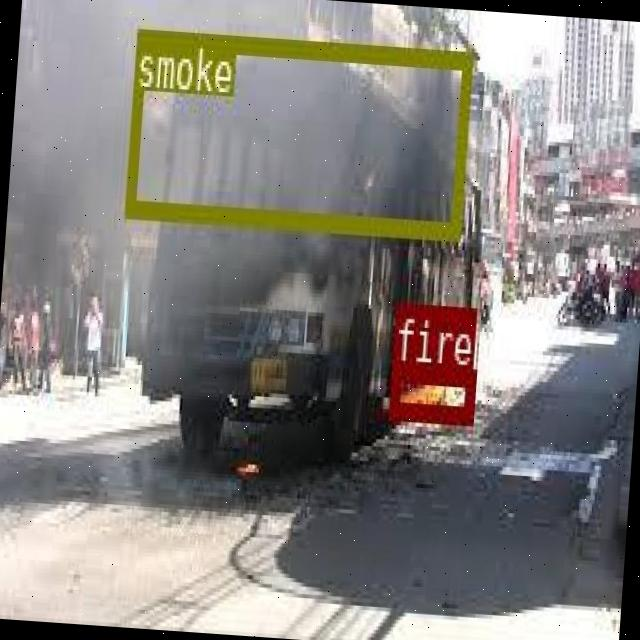fire: (389, 362, 475, 421)
smoke: (124, 26, 470, 238)
